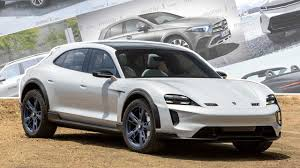car: (7, 40, 288, 158), (91, 10, 240, 61)
